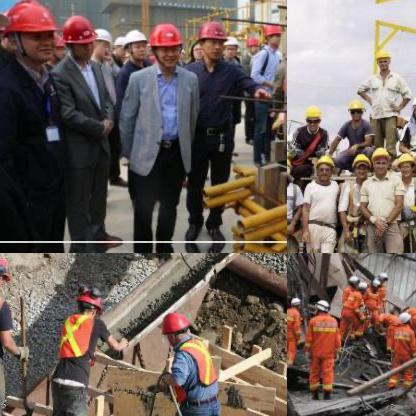Helmet: (2, 0, 57, 65), (146, 19, 184, 65), (61, 12, 94, 60), (193, 17, 225, 61), (160, 308, 194, 340), (72, 283, 102, 317), (122, 25, 146, 59), (92, 24, 112, 58), (370, 145, 390, 175), (350, 150, 370, 180), (372, 43, 392, 73), (396, 149, 415, 179), (303, 102, 321, 132), (260, 22, 280, 48), (314, 154, 334, 180), (0, 253, 13, 288), (348, 98, 364, 124), (223, 33, 240, 57), (112, 31, 126, 60), (245, 32, 259, 56), (314, 296, 328, 314), (398, 310, 412, 326), (288, 293, 300, 309), (346, 271, 358, 287), (409, 90, 415, 120), (376, 267, 388, 281), (287, 153, 292, 186), (356, 278, 366, 294)
